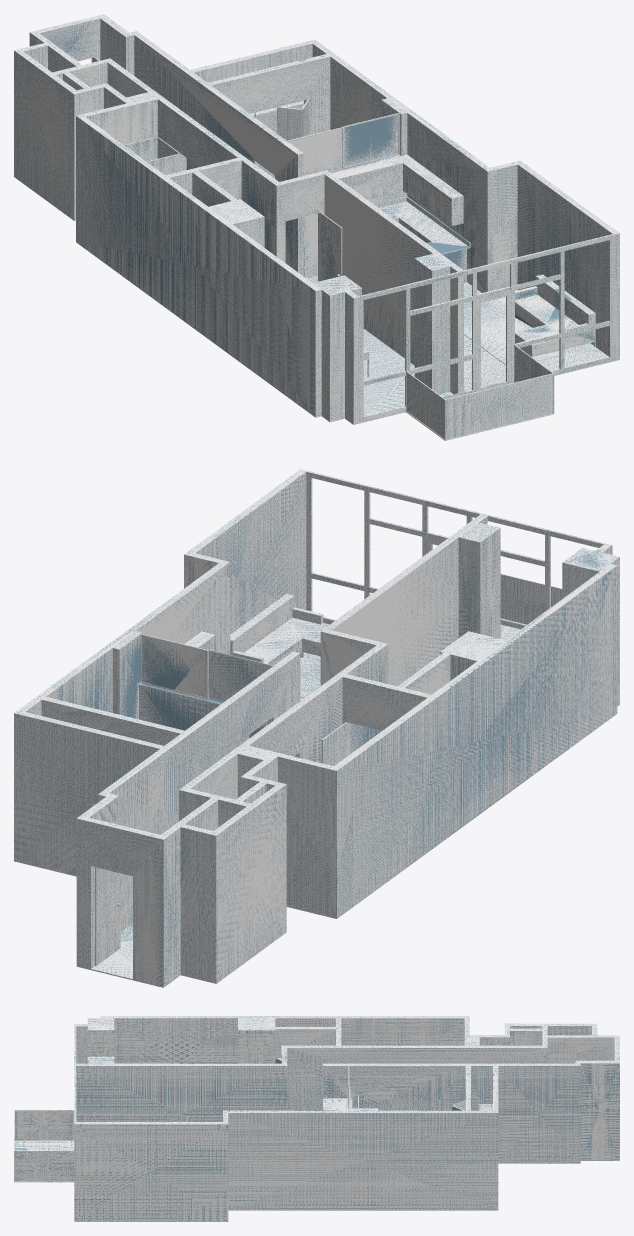
File: 235 W Van Buren Unit 3811.fbx
3 renders of one model, top to bottom at view 1: azimuth 30°, elevation 25°; view 2: azimuth 150°, elevation 25°; view 3: azimuth 270°, elevation 25°, orthographic. The views are drawn at different scales.
Parts seen in each view (by area): view 1: Component_56_1, Component_40_1, Component_42_1, Component_18_1, Component_46_1, Component_58_2, Component_16_1, Component_58_1, Component_28_1, Component_48_1, Component_10_1, Component_41_1 (+7 smaller); view 2: Component_56_1, Component_58_2, Component_46_1, Component_28_2, Component_40_1, Component_58_1, Component_42_1, Component_47_1, Component_3_5, Component_29_2, Component_48_1, Component_3_6; view 3: Component_56_1, Component_42_1, Component_41_1, Component_40_1, Component_18_1.
Boxes of the visible parts, <box> form: Component_56_1: <box>14,14,619,423</box>; Component_40_1: <box>14,176,619,424</box>; Component_42_1: <box>407,347,552,439</box>; Component_18_1: <box>331,154,463,225</box>; Component_46_1: <box>515,274,595,357</box>; Component_58_2: <box>342,113,399,168</box>; Component_16_1: <box>379,201,470,282</box>; Component_58_1: <box>287,127,343,175</box>; Component_28_1: <box>320,212,342,280</box>; Component_48_1: <box>464,317,565,364</box>; Component_10_1: <box>477,291,510,391</box>; Component_41_1: <box>406,345,554,440</box>; Component_56_1: <box>14,469,619,986</box>; Component_58_2: <box>140,634,208,699</box>; Component_46_1: <box>230,593,329,665</box>; Component_28_2: <box>95,867,120,965</box>; Component_40_1: <box>14,652,619,987</box>; Component_58_1: <box>207,649,273,702</box>; Component_42_1: <box>500,575,562,624</box>; Component_47_1: <box>230,594,294,652</box>; Component_3_5: <box>306,471,312,611</box>; Component_29_2: <box>322,722,347,766</box>; Component_48_1: <box>300,652,320,697</box>; Component_3_6: <box>364,485,370,598</box>; Component_56_1: <box>74,1016,619,1220</box>; Component_42_1: <box>15,1111,73,1181</box>; Component_41_1: <box>14,1110,74,1182</box>; Component_40_1: <box>74,1160,619,1221</box>; Component_18_1: <box>323,1098,346,1110</box>.
Size of the model in its own units: 288 by 121 by 681.
